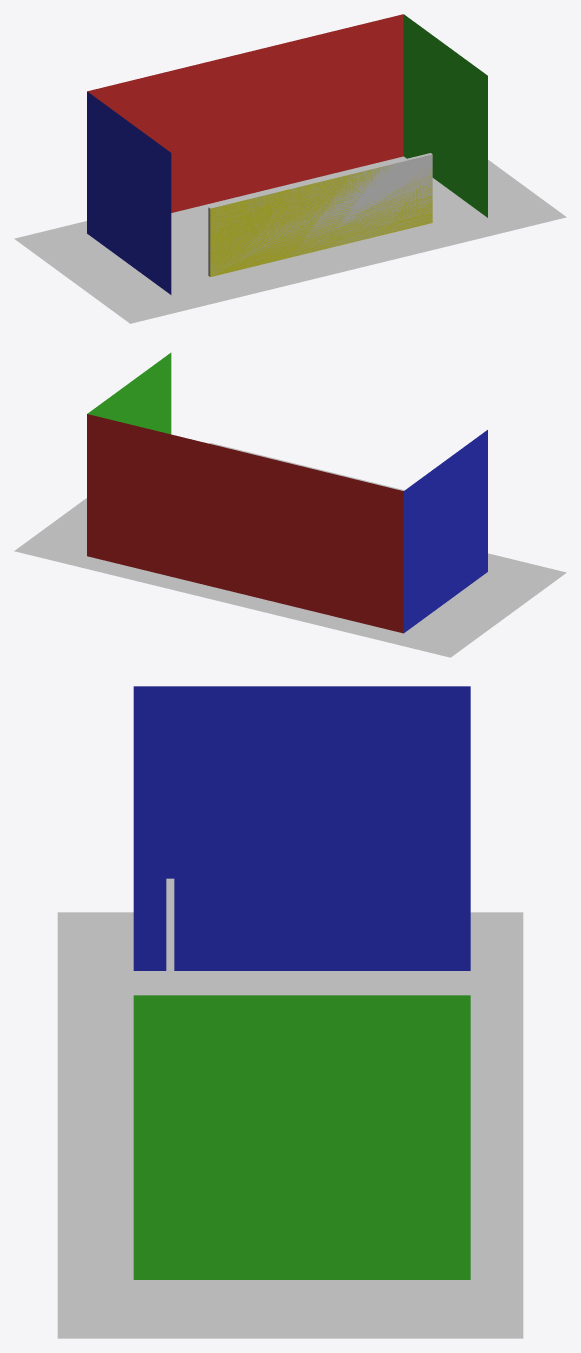
File: sunline v3.dae
The picture shows the model from 3 angles, top to bottom: view 1: azimuth 30°, elevation 25°; view 2: azimuth 150°, elevation 25°; view 3: azimuth 270°, elevation 25°; orthographic projection. The views are drawn at different scales.
Parts seen in each view (by area): view 1: p1front, floor, screen, p3left, p2right, Cube; view 2: p1front, floor, p3left, p2right; view 3: p2right, p3left, floor, Cube.
Part boxes in pixels (x1=…): p1front: x1=87, y1=14, x2=403, y2=212; floor: x1=14, y1=156, x2=566, y2=323; screen: x1=210, y1=164, x2=432, y2=276; p3left: x1=87, y1=91, x2=171, y2=294; p2right: x1=403, y1=14, x2=487, y2=217; Cube: x1=208, y1=153, x2=432, y2=276; p1front: x1=87, y1=414, x2=403, y2=633; floor: x1=14, y1=498, x2=566, y2=657; p3left: x1=403, y1=430, x2=487, y2=632; p2right: x1=87, y1=352, x2=171, y2=434; p2right: x1=133, y1=995, x2=470, y2=1279; p3left: x1=133, y1=686, x2=470, y2=970; floor: x1=57, y1=912, x2=523, y2=1338; Cube: x1=166, y1=878, x2=174, y2=995.
Bounding box in the file's own units: 19.2 × 5.98 × 8.86.
